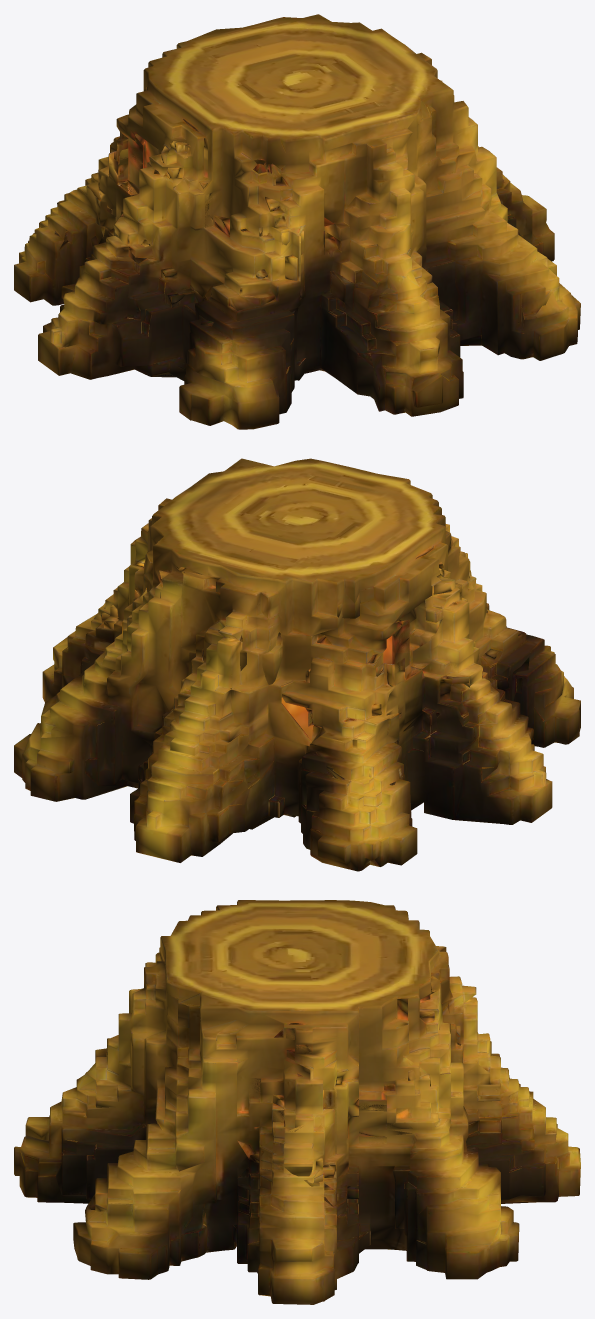
File: whorlstump.glb
3 views of the same model, one above another, from view 1: azimuth 30°, elevation 25°; view 2: azimuth 150°, elevation 25°; view 3: azimuth 270°, elevation 25° (orthographic).
Bounding box in the file's own units: 1.9 × 0.8571 × 1.91.
1 material, 1 textured.
